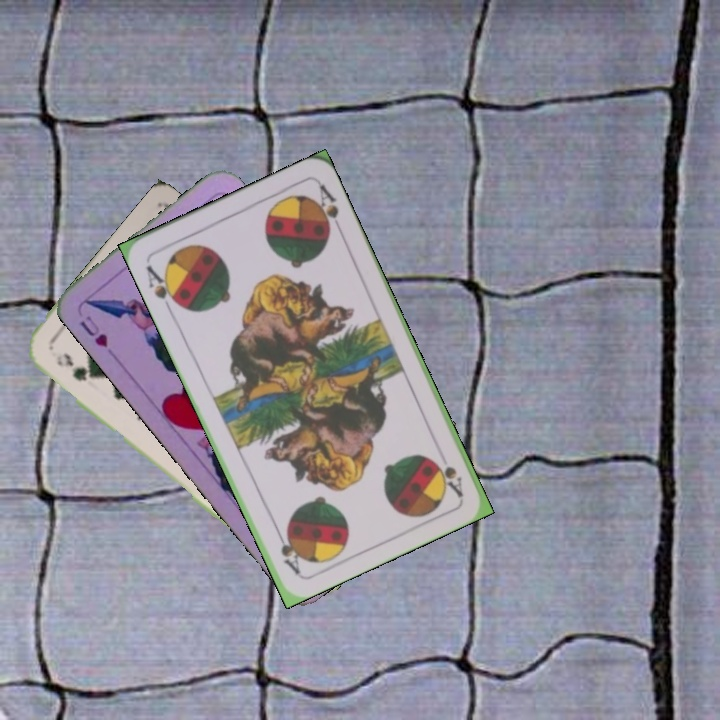G9: (52, 349, 97, 384)
HU: (75, 311, 111, 350)
SA: (142, 261, 184, 314), (432, 457, 466, 500)
